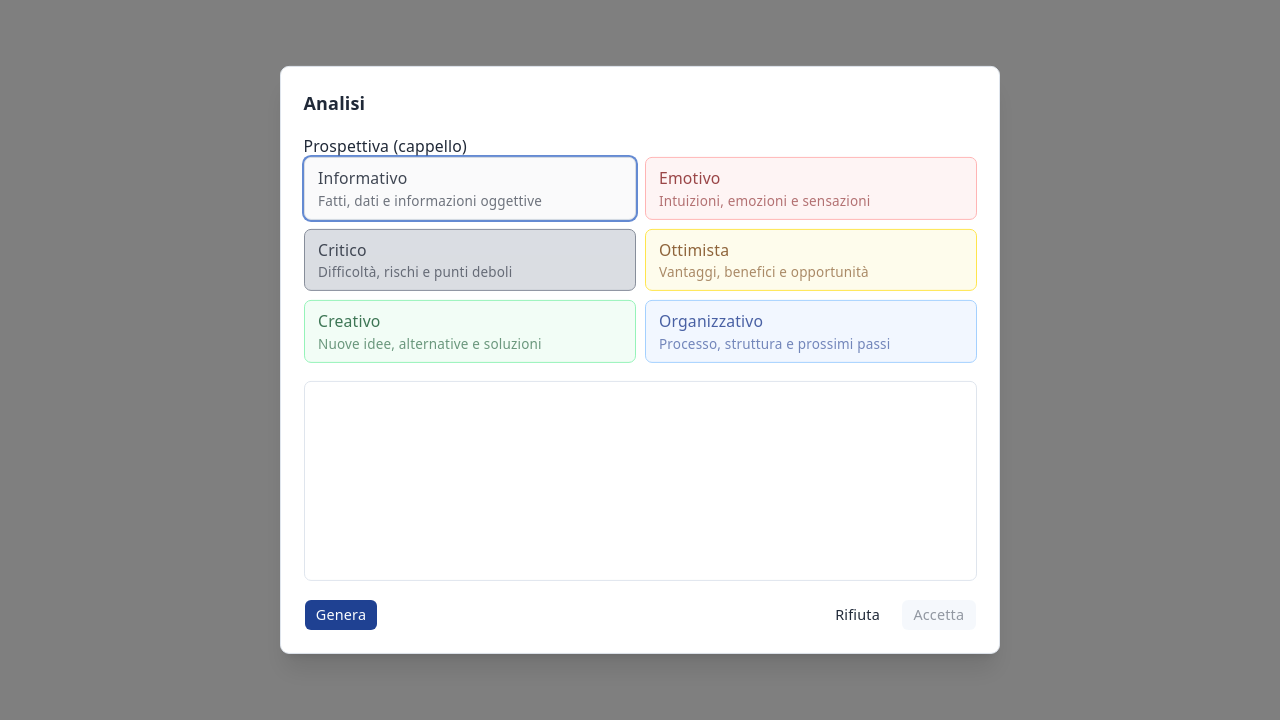
Test: AiActionDialog — critique (cappelli) › senza cappello → nessuna fetch, mostra alert
Click the button "Genera" at (341, 615), box x1=304 y1=599 x2=378 y2=631
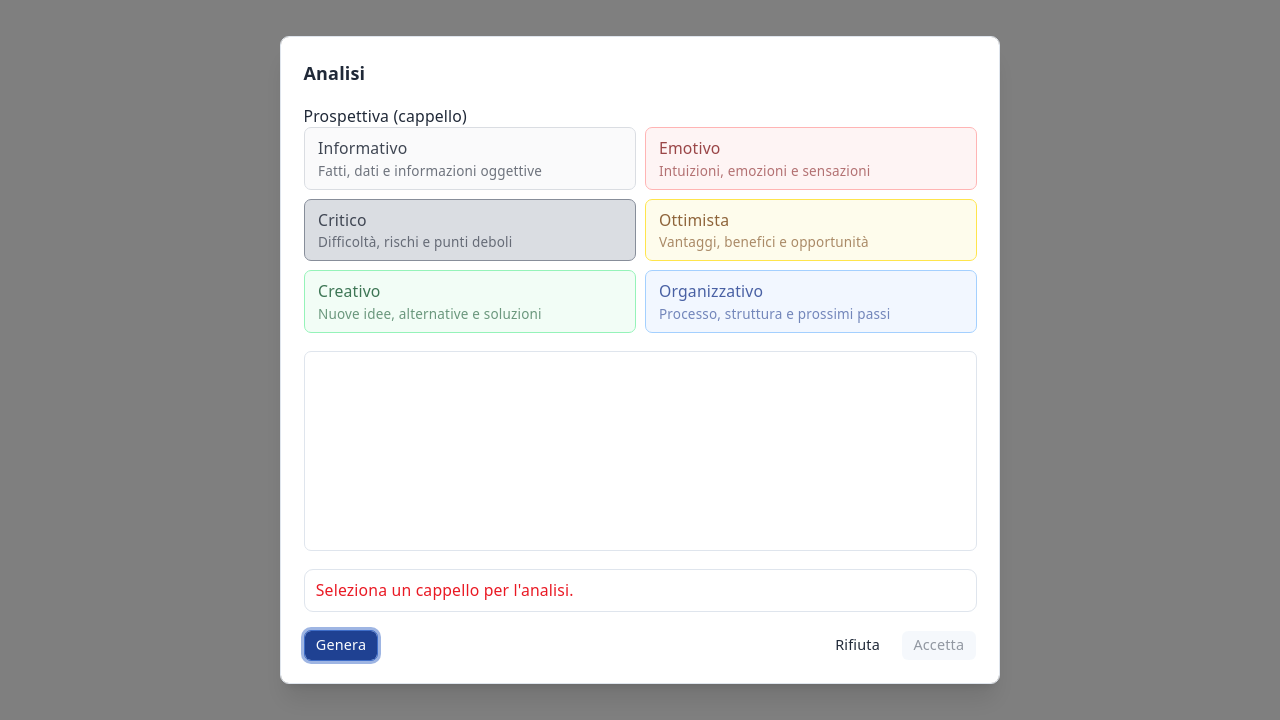
Expected: the message shows "Seleziona un cappello", x1=316 y1=579 x2=574 y2=601
